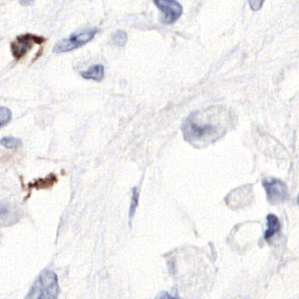Lymphocyte: (10, 33, 42, 57)
